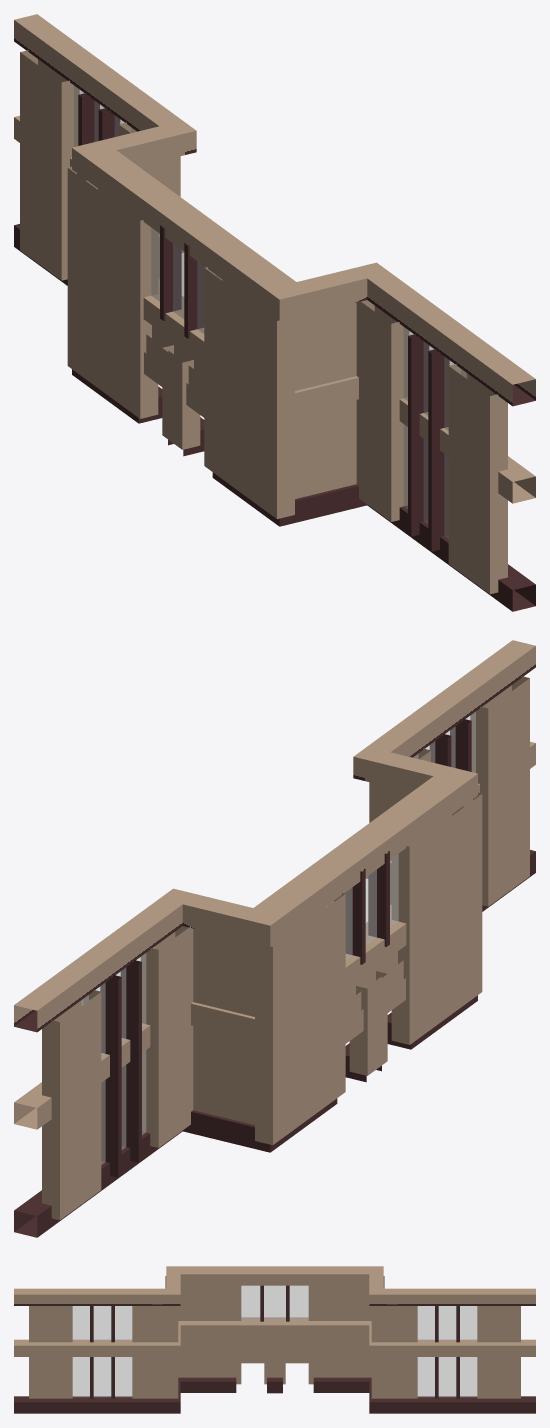
Rendered from mdl_side_entrance_25x25.fbx.
3 renders of one model, top to bottom at view 1: azimuth 30°, elevation 25°; view 2: azimuth 150°, elevation 25°; view 3: azimuth 270°, elevation 25°, orthographic. The views are drawn at different scales.
Visible parts, largest first — view 1: Corner_pillar.010, Bordure_haute.006, Bordure_haute.008, Bordure_haute.007, Corner_pillar.011; view 2: Corner_pillar.010, Bordure_haute.006, Bordure_haute.008, Bordure_haute.007, Corner_pillar.011; view 3: Corner_pillar.010, Corner_pillar.011, Bordure_haute.006, Bordure_haute.007, Bordure_haute.008.
Part boxes in pixels (x1=…): Corner_pillar.010: x1=20, y1=50, x2=507, y2=594; Bordure_haute.006: x1=14, y1=14, x2=535, y2=406; Bordure_haute.008: x1=14, y1=224, x2=535, y2=611; Bordure_haute.007: x1=14, y1=115, x2=535, y2=503; Corner_pillar.011: x1=67, y1=80, x2=468, y2=538; Corner_pillar.010: x1=42, y1=676, x2=529, y2=1220; Bordure_haute.006: x1=14, y1=640, x2=535, y2=1032; Bordure_haute.008: x1=14, y1=850, x2=535, y2=1237; Bordure_haute.007: x1=14, y1=741, x2=535, y2=1129; Corner_pillar.011: x1=81, y1=706, x2=482, y2=1164; Corner_pillar.010: x1=29, y1=1276, x2=520, y2=1398; Corner_pillar.011: x1=72, y1=1285, x2=477, y2=1397; Bordure_haute.006: x1=14, y1=1266, x2=535, y2=1305; Bordure_haute.007: x1=14, y1=1317, x2=535, y2=1356; Bordure_haute.008: x1=14, y1=1377, x2=535, y2=1413.
Bounding box in the file's own units: 2.77 × 5.25 × 20.9.
